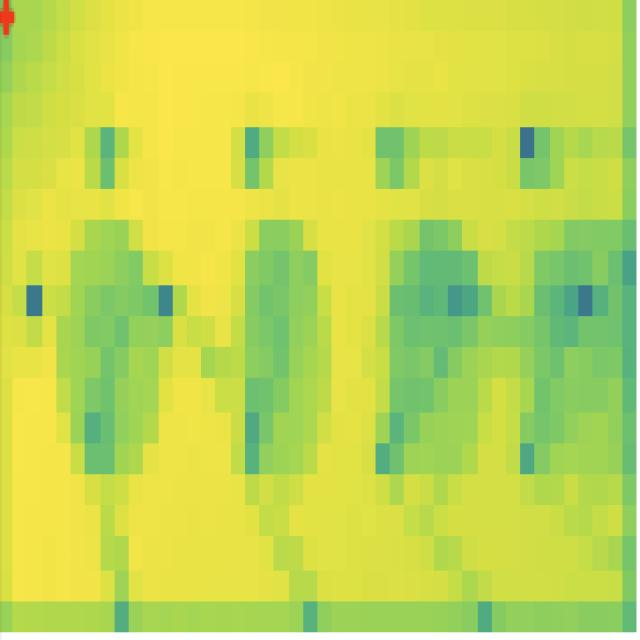Concrete: (378, 219, 488, 498)
Glass: (227, 217, 333, 527)
Metal: (516, 219, 633, 484)
Wood: (55, 214, 172, 499)
